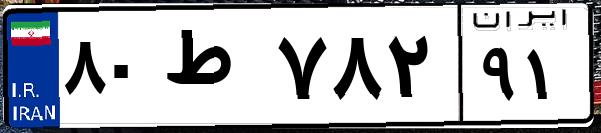0: (110, 28, 158, 98)
1: (525, 38, 570, 115)
2: (385, 28, 445, 110)
7: (270, 28, 330, 110)
8: (330, 28, 385, 110), (57, 26, 110, 100)
9: (475, 38, 525, 113)
ط: (158, 20, 270, 120)
